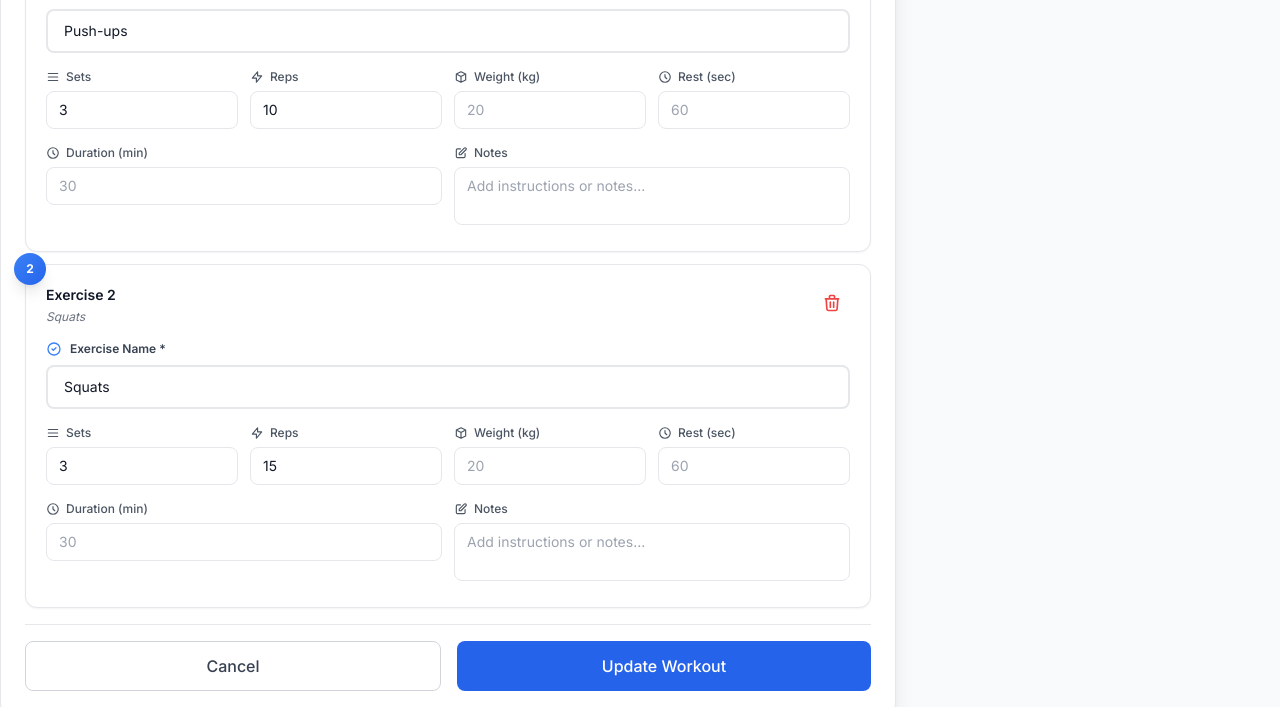
EditWorkoutForm › should show error message when update fails
This screenshot has width=1280, height=707.
(page scrolled)
Click the button "Update Workout" at (664, 666), box [457,641,871,691]
(page scrolled)
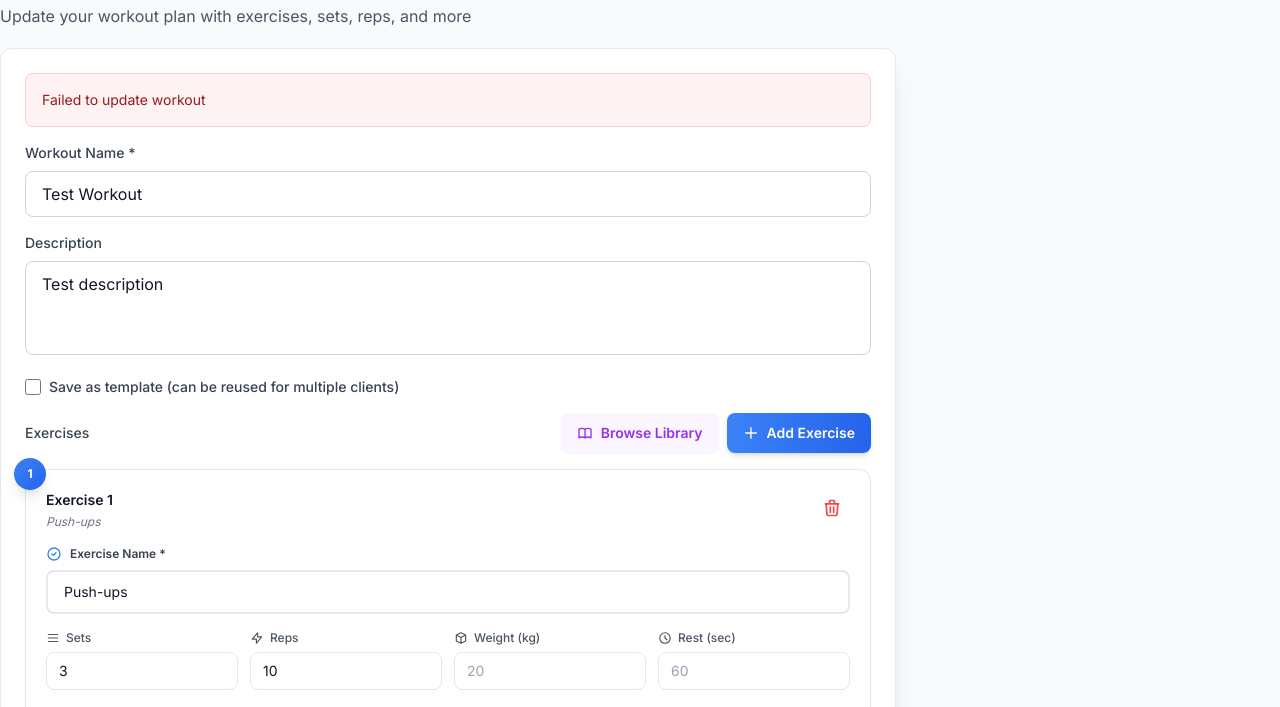
Now the text "Failed to update workout" is shown, box [42,91,206,108]
